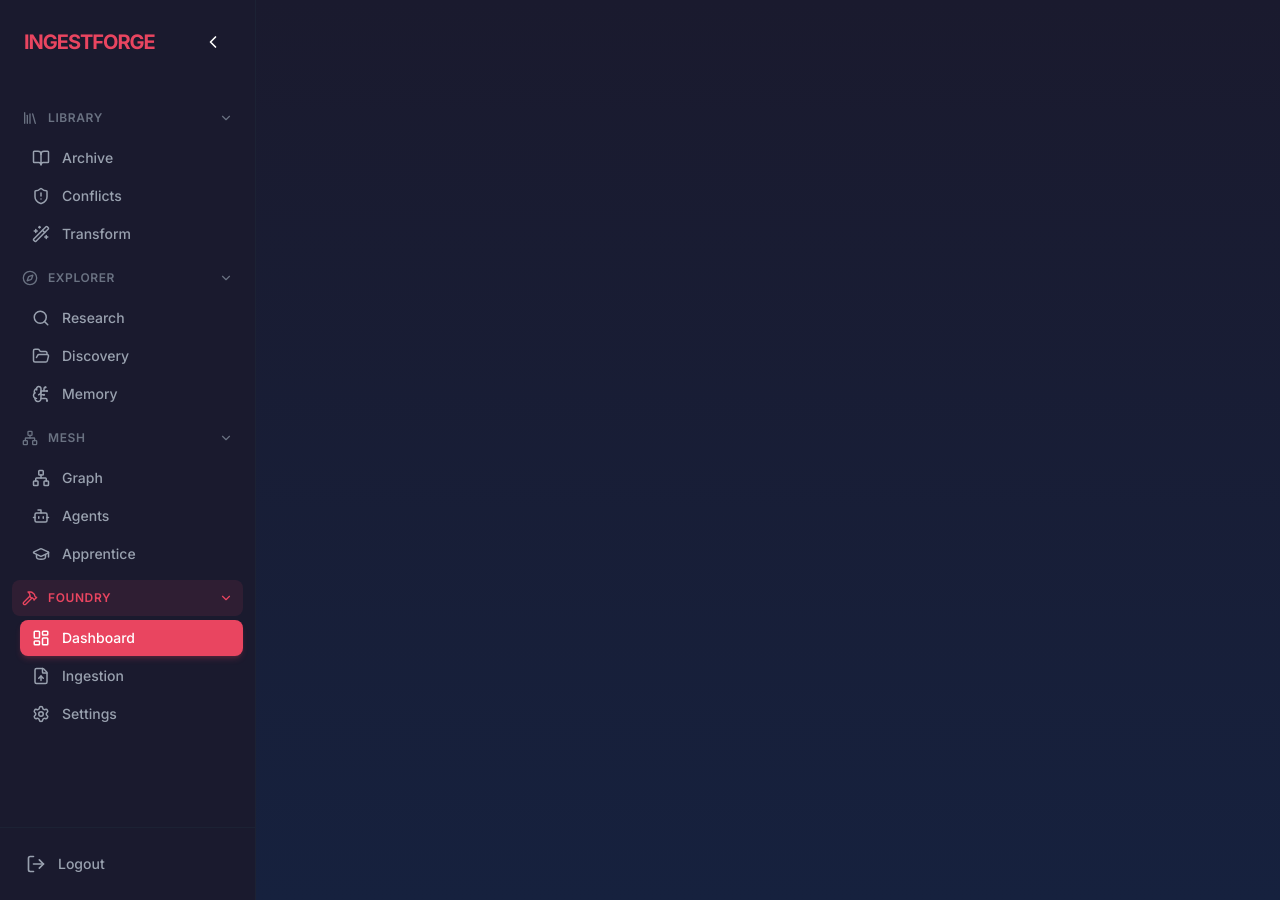
Sidebar › Collapse/Expand › shows logo when expanded
// Collapse then expand
Click the button named "Toggle Sidebar": (213, 42) [195, 24, 231, 60]
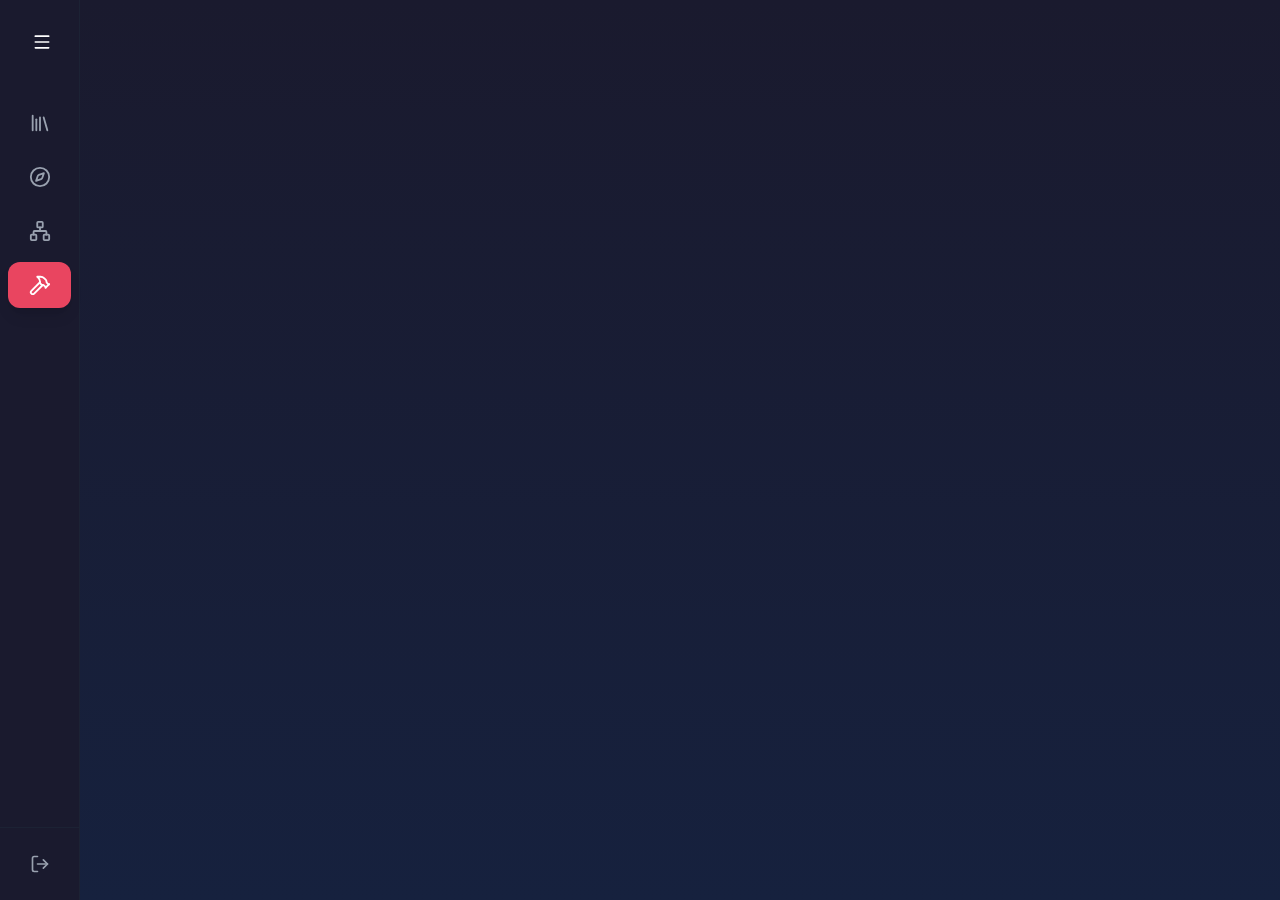
Click the button named "Toggle Sidebar": (42, 42) [24, 24, 60, 60]
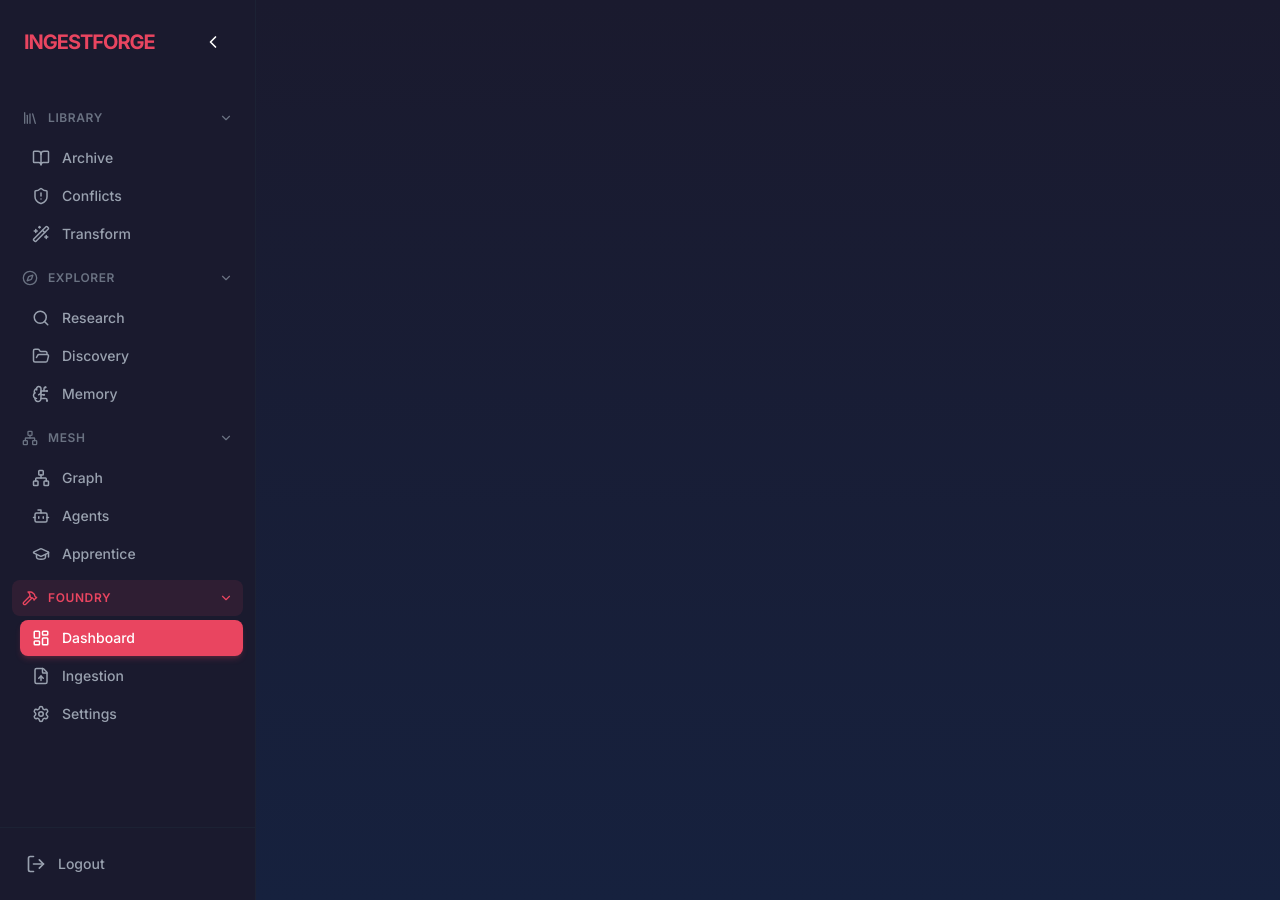
Expected: the text "INGESTFORGE" is shown, [24, 28, 155, 56]
